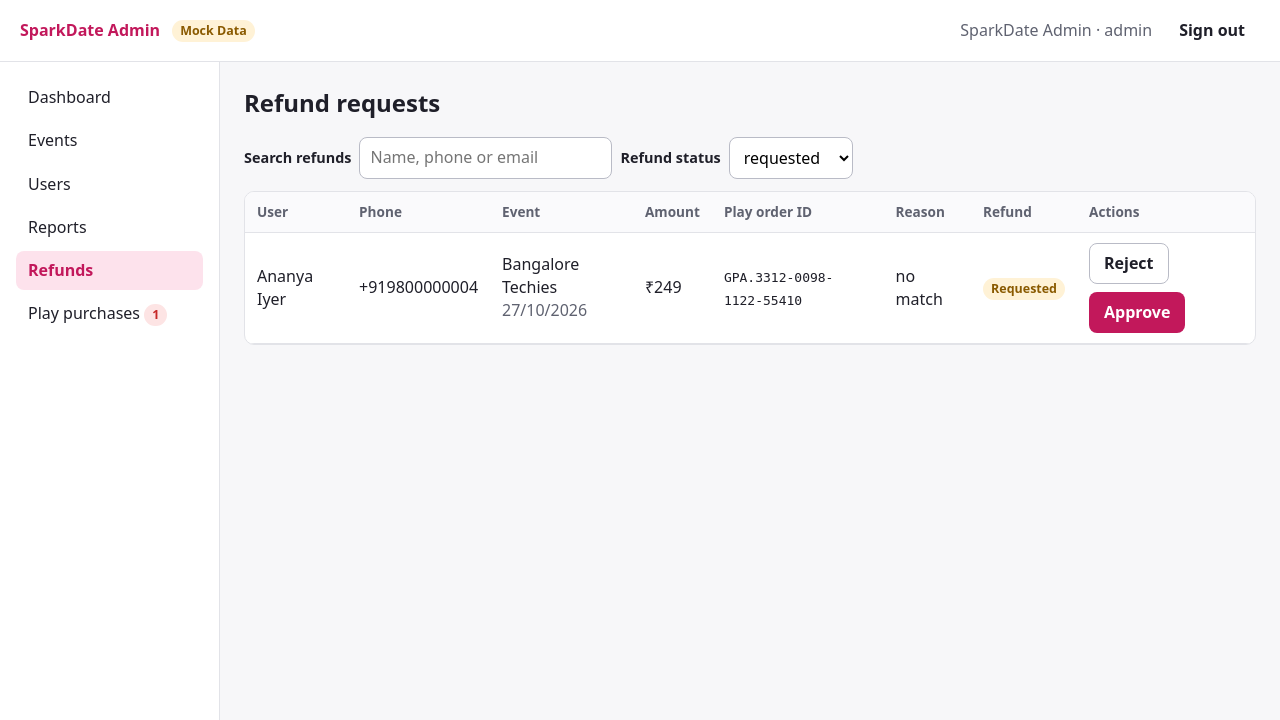
pages (mock API) › rejecting a refund requires a reason and sends it
Click the button with aria-label "Reject refund for Ananya Iyer" at (1129, 263), box [1089,243,1168,284]
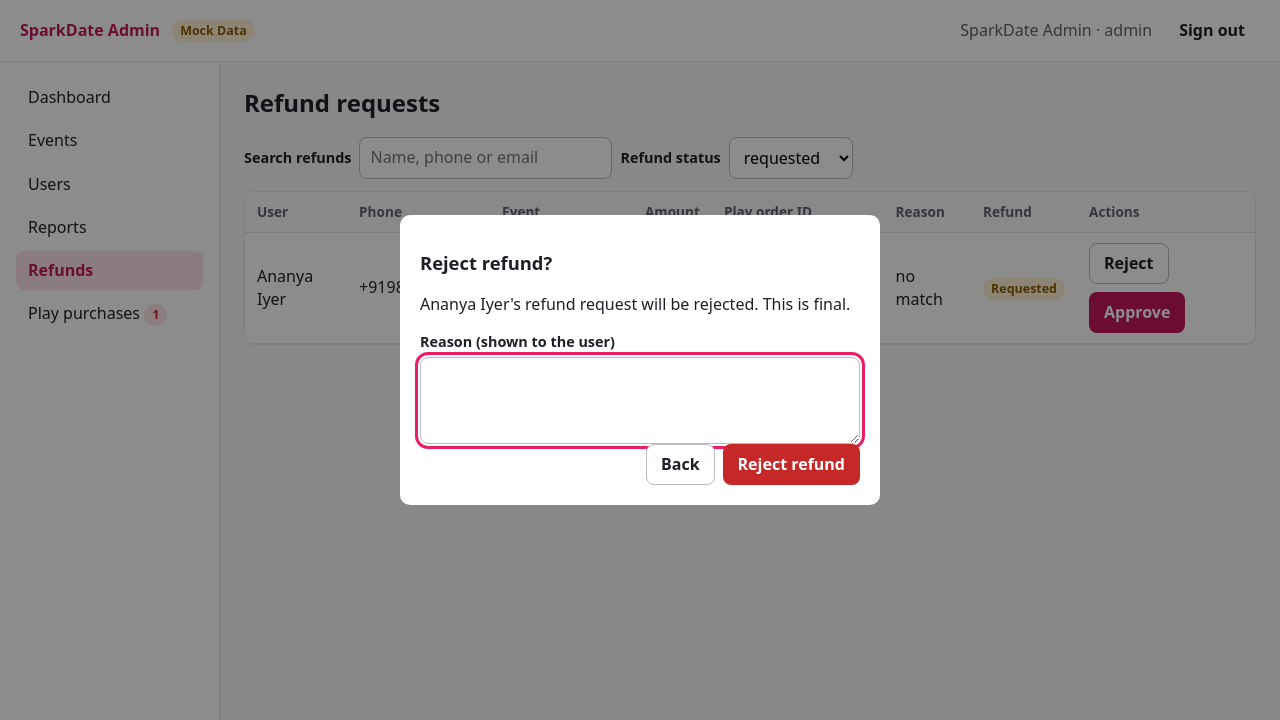
Click the button "Reject refund" at (791, 465), box [723,444,860,485]
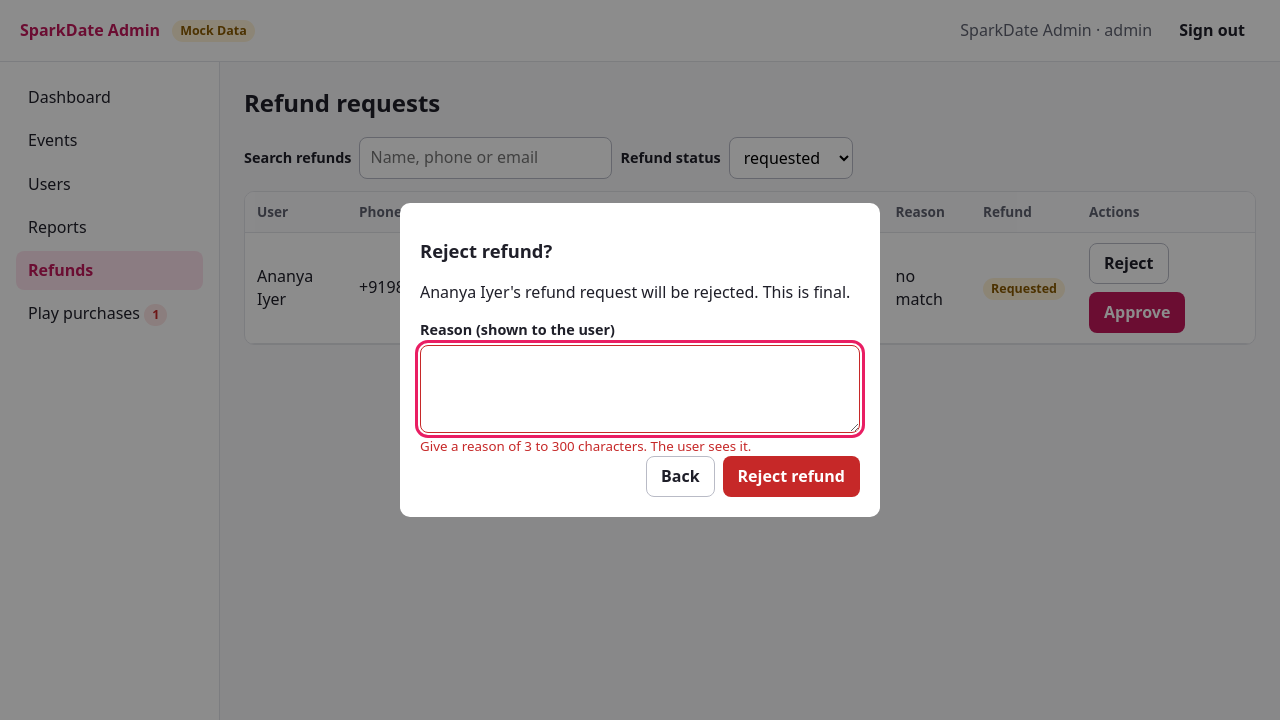
Check: the text "Give a reason of 3 to 300 characters. The user sees it." is shown, box [420,436,751,454]
Type "Attended all dates" into the text box labelled "Reason (shown to the user)" at (640, 389), box [420,345,860,433]
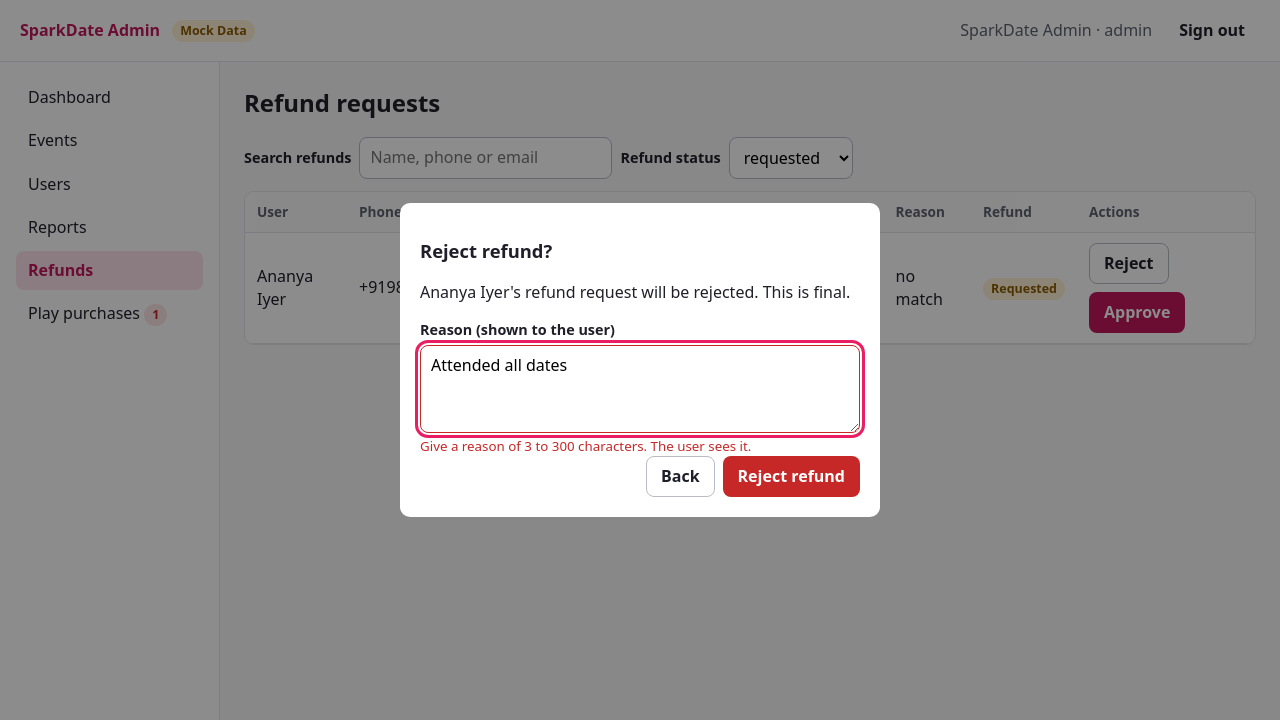
Click the button "Reject refund" at (791, 476), box [723,456,860,497]
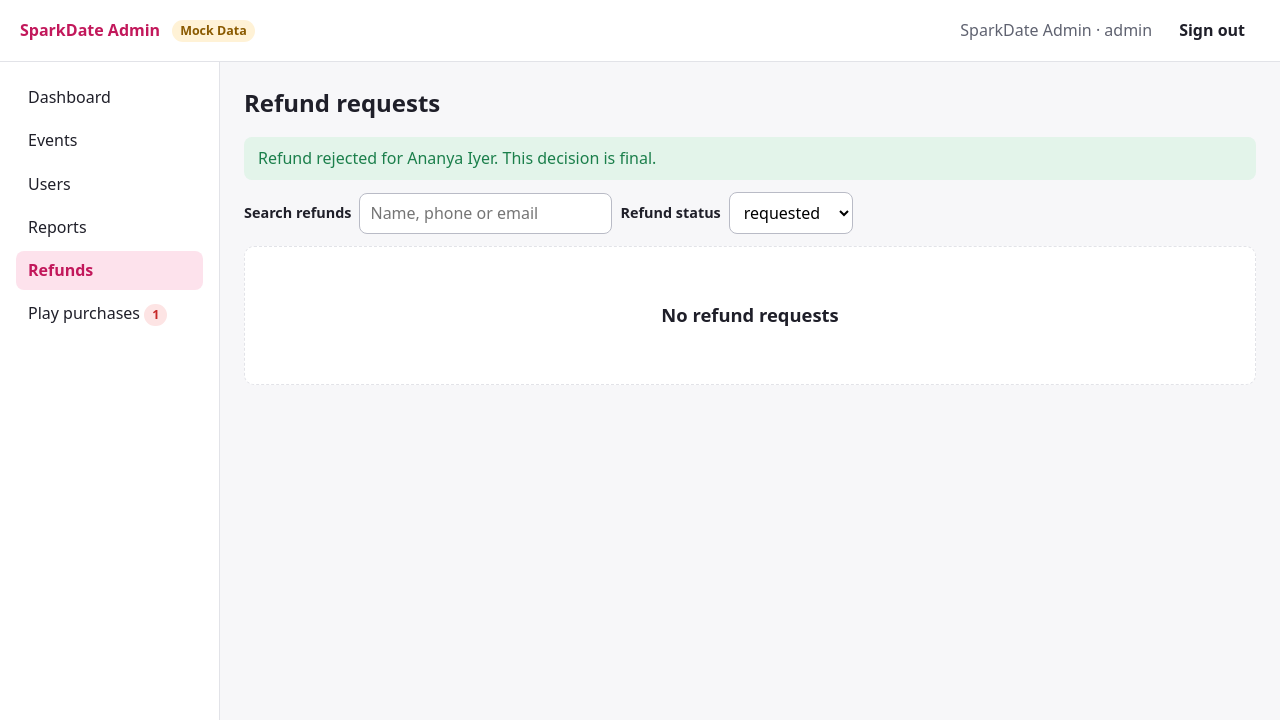
Check: the text "Refund rejected for Ananya Iyer. This decision is final." is shown, box [244,137,1256,180]
